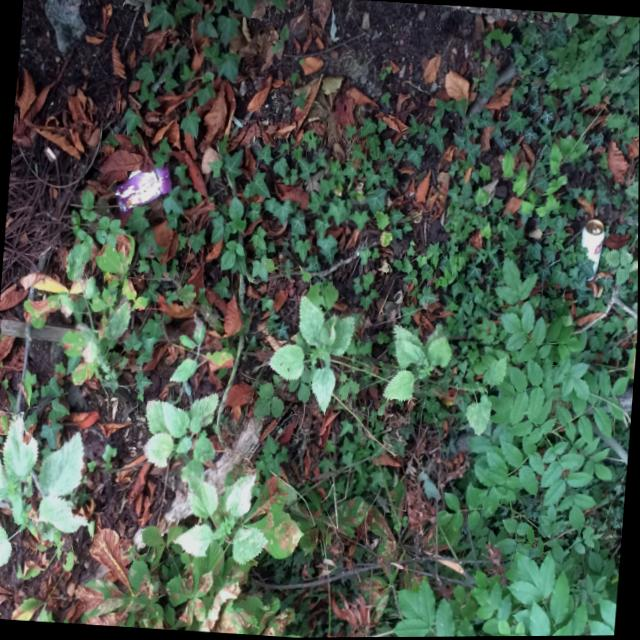Plastic: (109, 156, 176, 219)
